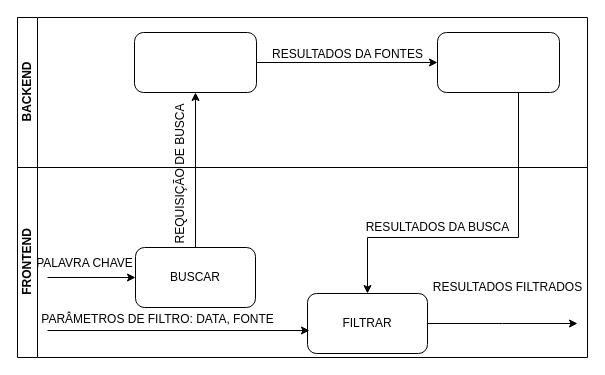
Some shapes in this 605 by 375 pixel diagram are drawn without their labels. Here are the shapes that lost their labels. From the top down, the box of each, then its label:
(134, 32, 256, 92): PESQUISAR NAS FONTES
(436, 32, 560, 92): CONSTRUIR RESULTADOS GENÉRICOS
